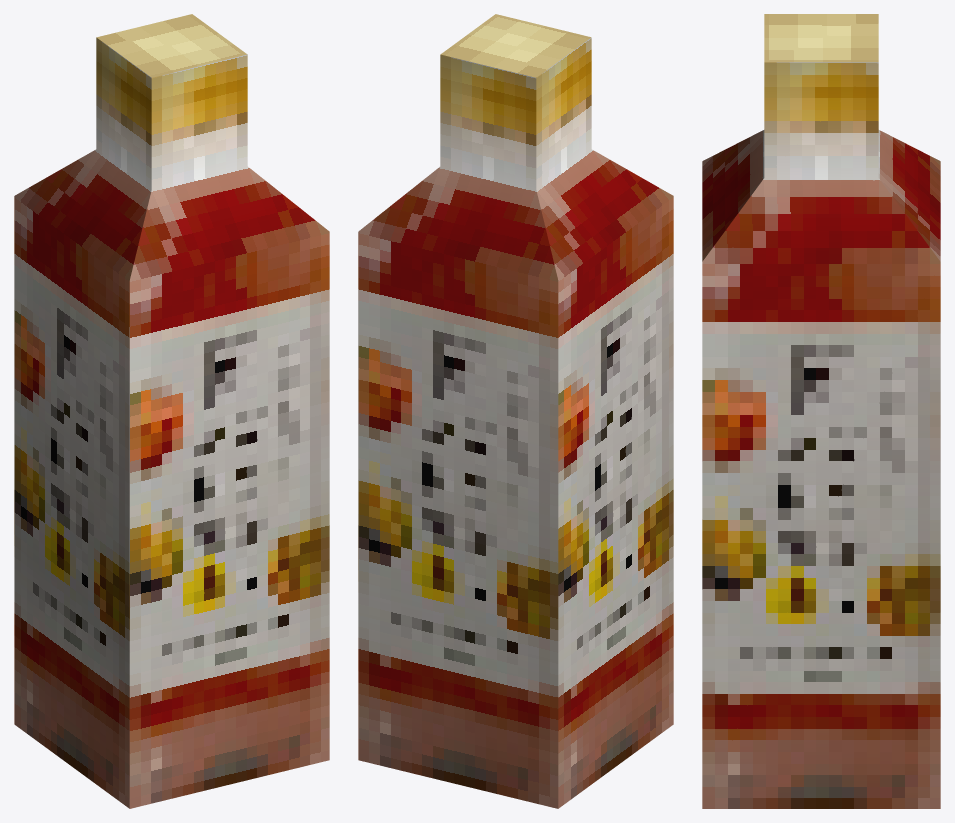
Rendered from Bottle008.glb.
The picture shows the model from 3 angles, left to right: view 1: azimuth 30°, elevation 25°; view 2: azimuth 150°, elevation 25°; view 3: azimuth 270°, elevation 25°; orthographic projection. The views are drawn at different scales.
Parts seen in each view (by area): view 1: bottle.008; view 2: bottle.008; view 3: bottle.008.
Part boxes in pixels (<box>): bottle.008: <box>14,14,329,808</box>; bottle.008: <box>358,14,673,808</box>; bottle.008: <box>702,14,940,808</box>.
Bounding box in the file's own units: 0.0548 × 0.1826 × 0.0548.
1 material, 1 textured.
